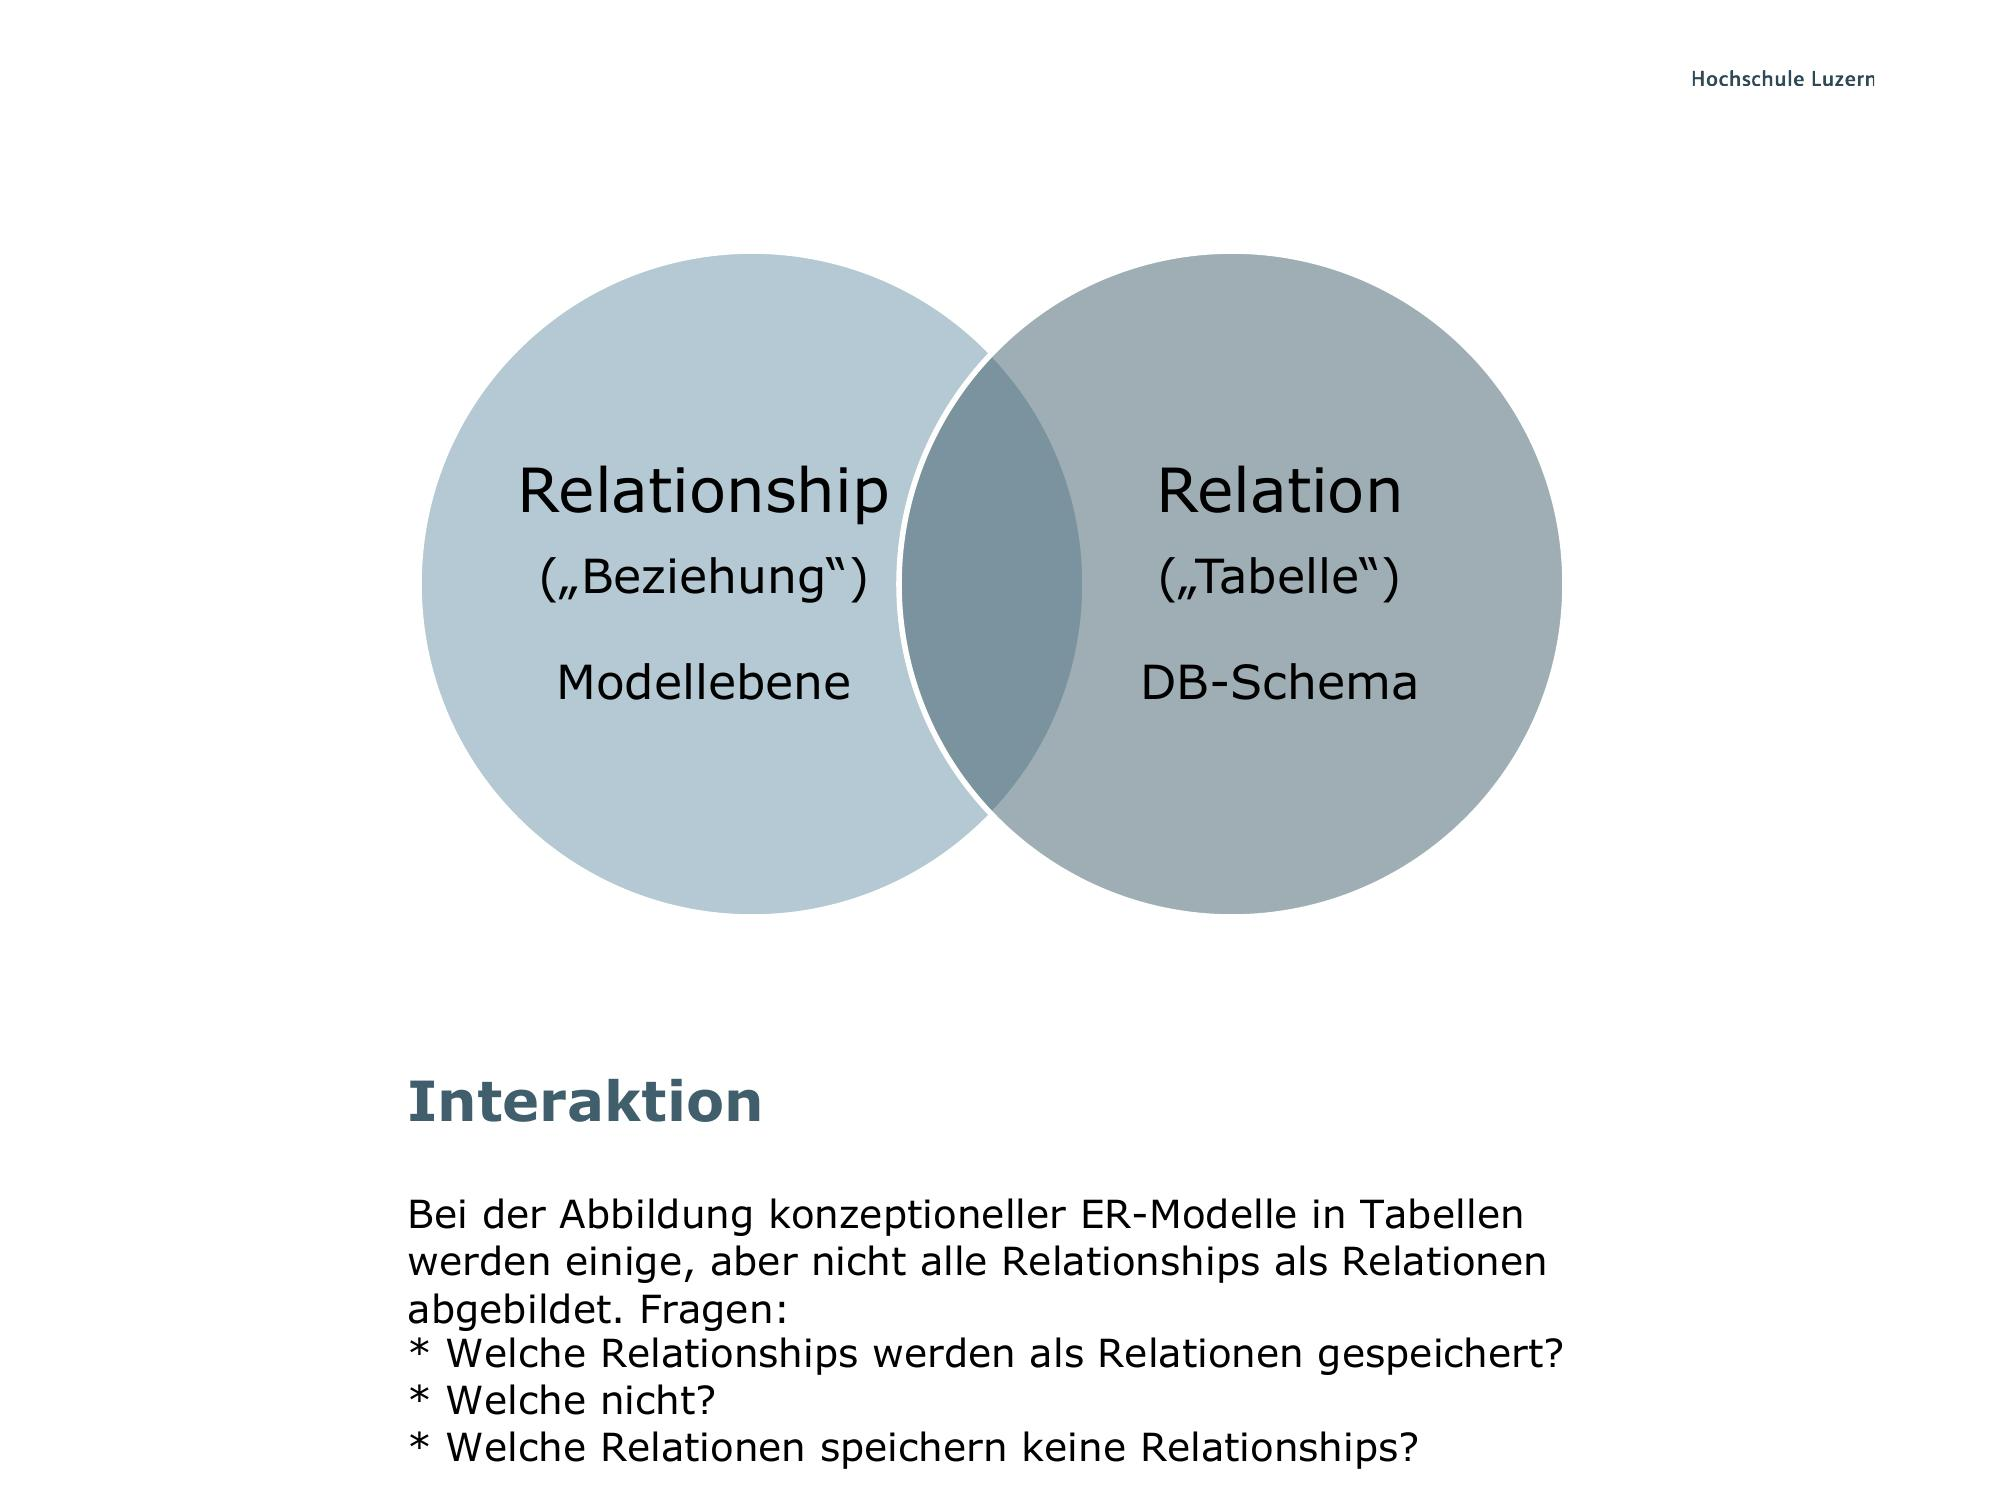Title: (375, 1046, 780, 1145)
